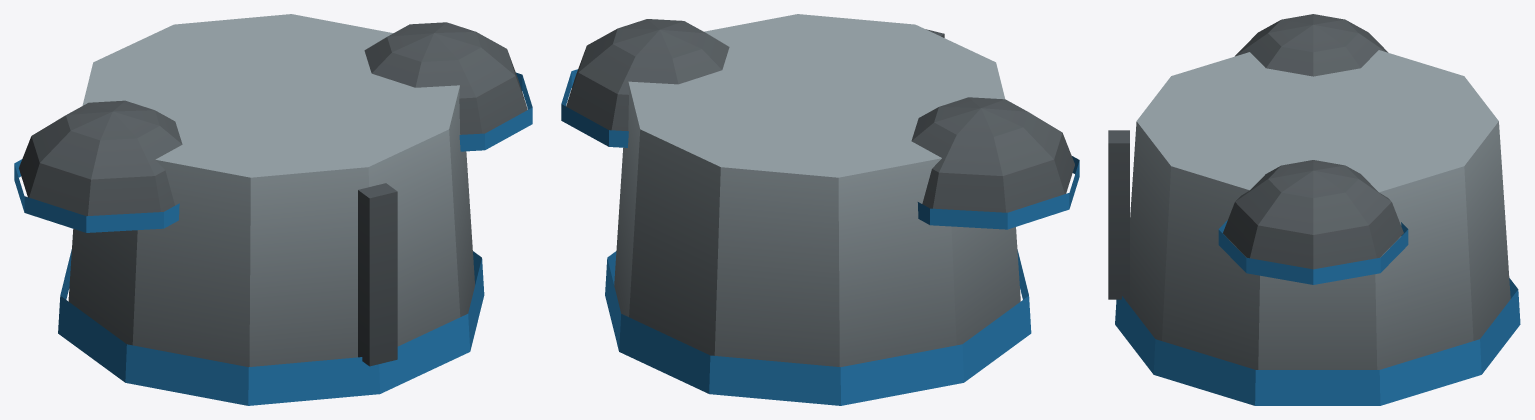
The model's file is guard_chest_t2.glb.
The picture shows the model from 3 angles, left to right: view 1: azimuth 30°, elevation 25°; view 2: azimuth 150°, elevation 25°; view 3: azimuth 270°, elevation 25°; orthographic projection. The views are drawn at different scales.
Visible parts, largest first — view 1: guard_chest_t2__chest; view 2: guard_chest_t2__chest; view 3: guard_chest_t2__chest.
Part boxes in pixels (x1,y1,x2,y2): guard_chest_t2__chest: (14, 14, 532, 405); guard_chest_t2__chest: (561, 14, 1079, 405); guard_chest_t2__chest: (1108, 14, 1520, 405).
Size of the model in its own units: 1.24 by 0.58 by 0.955.
1 material, 1 textured.
